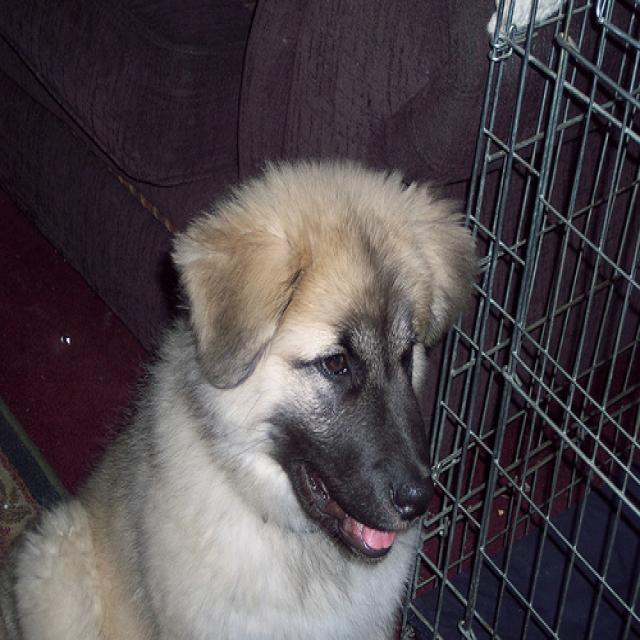dog-leonberger: (1, 143, 481, 637)
